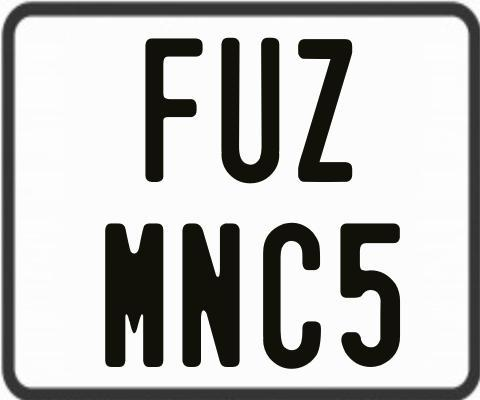5: (337, 222, 399, 367)
C: (262, 221, 322, 371)
F: (145, 37, 208, 187)
M: (104, 221, 162, 371)
N: (180, 222, 243, 366)
U: (220, 36, 280, 185)
Z: (297, 39, 353, 185)
